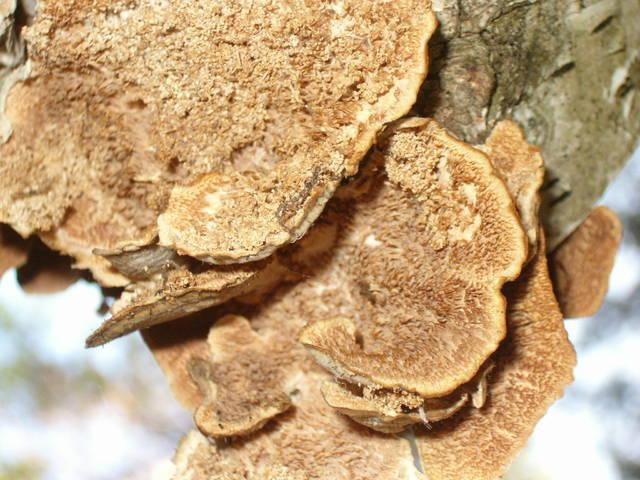poisonous_mushroom: (131, 113, 618, 479), (0, 0, 440, 348)
